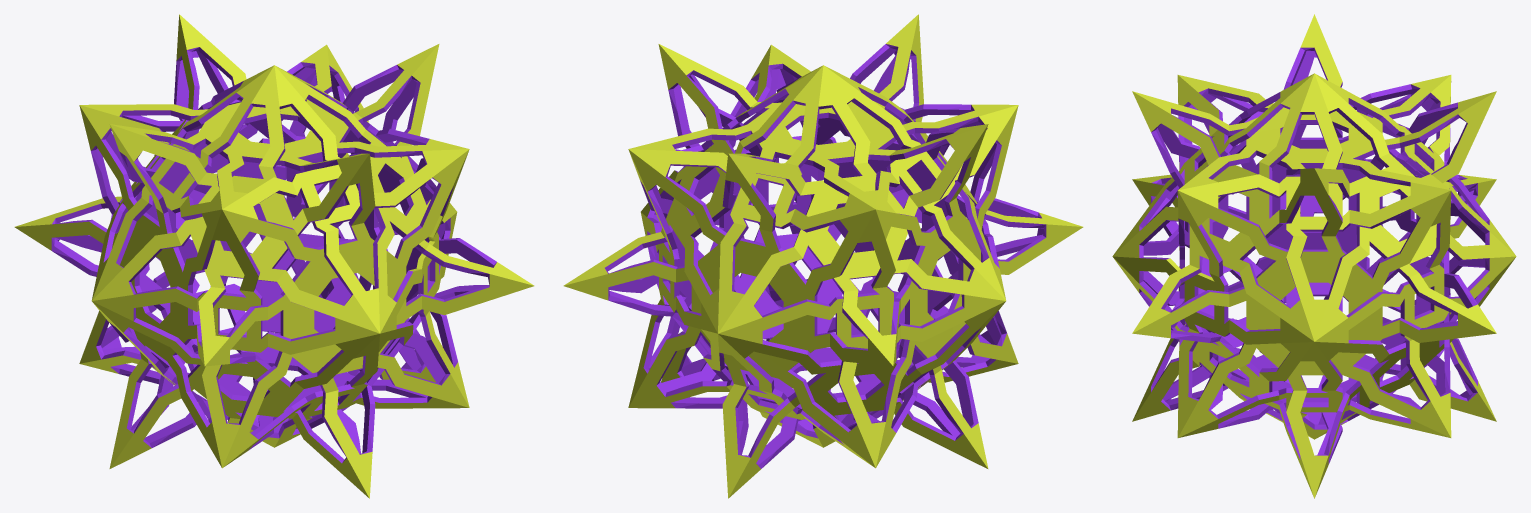
File: StarPolyknotTruncatedCuboctahedron1.glb
3 views of the same model, side by side, from view 1: azimuth 30°, elevation 25°; view 2: azimuth 150°, elevation 25°; view 3: azimuth 270°, elevation 25° (orthographic). The views are drawn at different scales.
Parts seen in each view (by area): view 1: ESSCHER_BBBa_A6; view 2: ESSCHER_BBBa_A6; view 3: ESSCHER_BBBa_A6.
Boxes of the visible parts, x1,y1,x2,y2 form: ESSCHER_BBBa_A6: (14, 14, 534, 498); ESSCHER_BBBa_A6: (563, 14, 1083, 498); ESSCHER_BBBa_A6: (1112, 14, 1516, 498).
Size of the model in its own units: 150 by 150 by 150.
